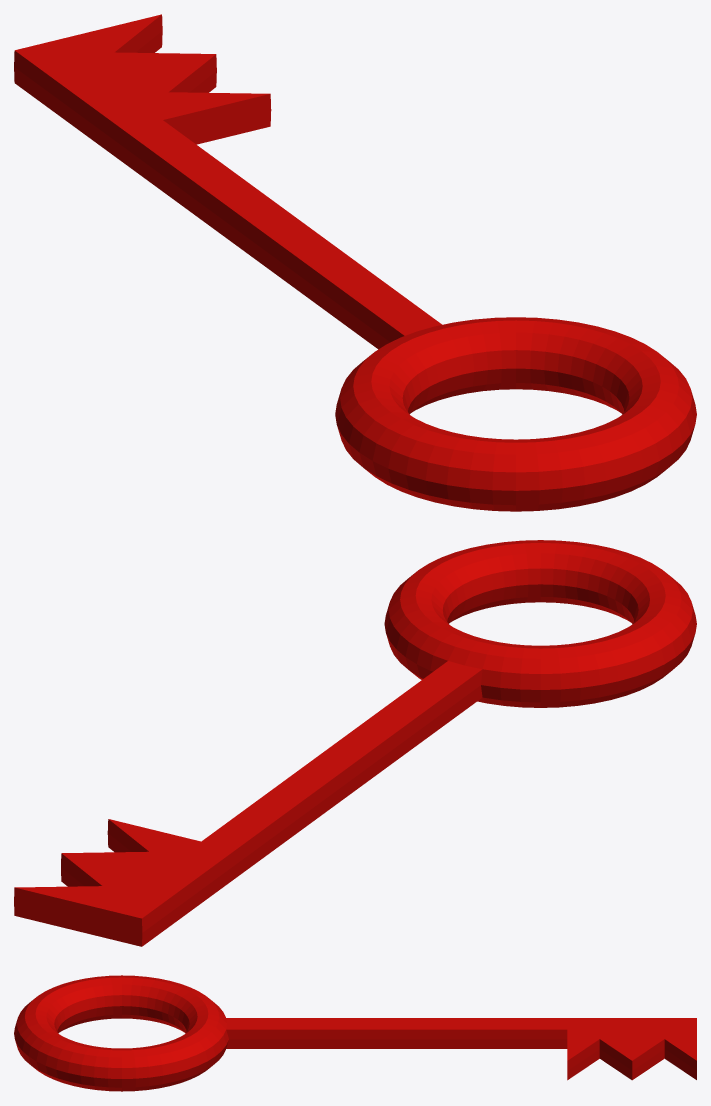
The model's file is Redkey.fbx.
3 views of the same model, one above another, from view 1: azimuth 30°, elevation 25°; view 2: azimuth 150°, elevation 25°; view 3: azimuth 270°, elevation 25° (orthographic). The views are drawn at different scales.
Parts seen in each view (by area): view 1: Torus; view 2: Torus; view 3: Torus.
Boxes of the visible parts, x1,y1,x2,y2 form: Torus: [14, 14, 696, 511]; Torus: [14, 540, 696, 946]; Torus: [14, 975, 696, 1091].
Bounding box in the file's own units: 250 × 50 × 791.
